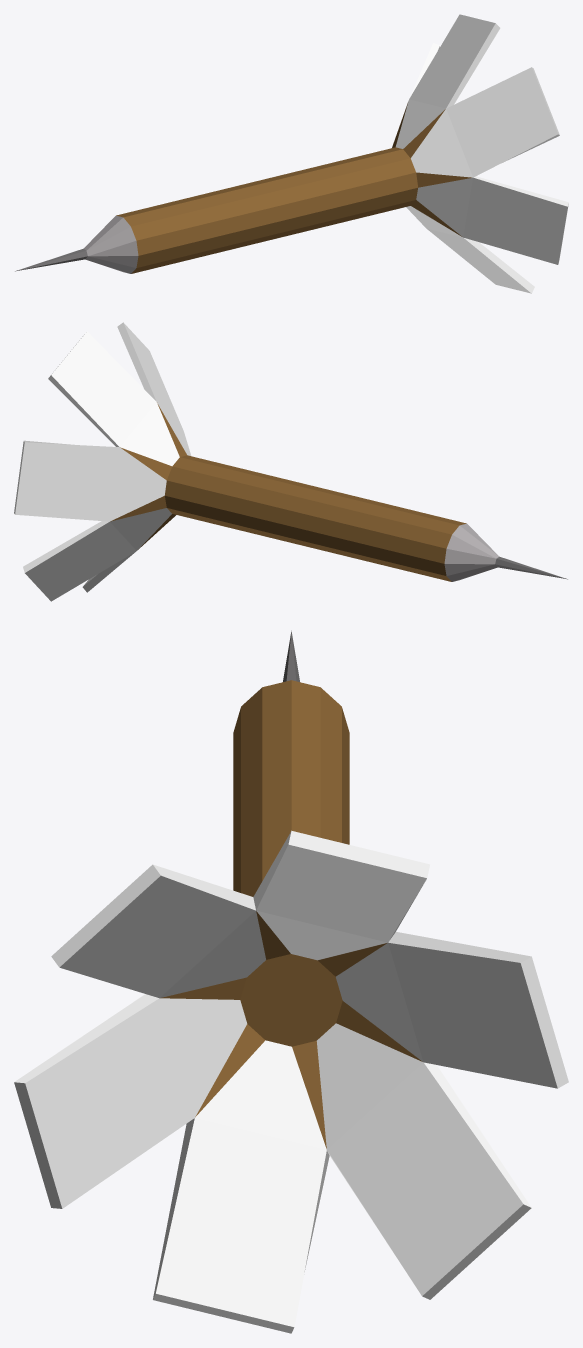
Rendered from dart.obj.
3 views of the same model, one above another, from view 1: azimuth 30°, elevation 25°; view 2: azimuth 150°, elevation 25°; view 3: azimuth 270°, elevation 25° (orthographic). The views are drawn at different scales.
Visible parts, largest first — view 1: dardo_bueno_Cylinder.001; view 2: dardo_bueno_Cylinder.001; view 3: dardo_bueno_Cylinder.001.
Boxes of the visible parts, bbox=[...] form: dardo_bueno_Cylinder.001: bbox=[15, 14, 568, 293]; dardo_bueno_Cylinder.001: bbox=[14, 322, 567, 601]; dardo_bueno_Cylinder.001: bbox=[14, 630, 568, 1333].
Size of the model in its own units: 9.31 by 4.79 by 4.79.
Materials: 1 (1 with a texture image).
